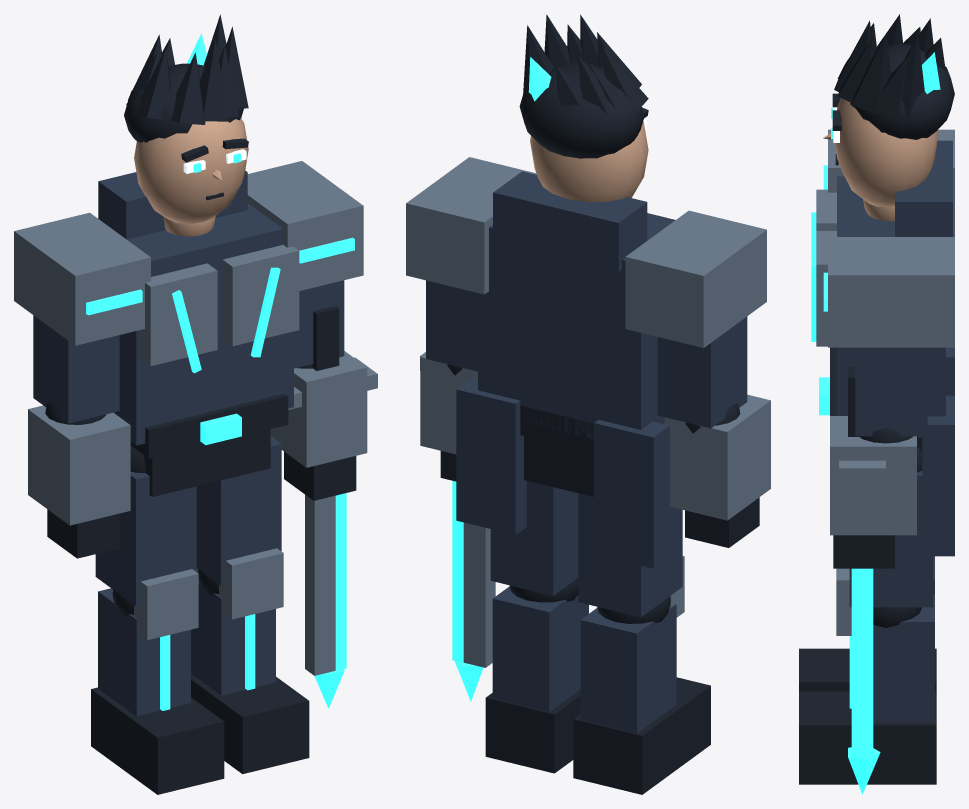
The model's file is kai-prototype.glb.
3 renders of one model, left to right at view 1: azimuth 30°, elevation 25°; view 2: azimuth 150°, elevation 25°; view 3: azimuth 270°, elevation 25°, orthographic. The views are drawn at different scales.
Parts seen in each view (by area): view 1: Armored jacket, Shoulder, Forearm gauntlet, Boot, Shoulder.001, Thigh, Head, Thigh.001, Forearm gauntlet.001, Boot.001, Shin, Upper arm (+28 smaller); view 2: Armored jacket, Shoulder, Coat tail, Shin, Shoulder.001, High collar, Shin.001, Forearm gauntlet, Coat tail.001, Boot, Thigh.001, Upper arm (+19 smaller); view 3: Shoulder.001, Boot.001, Forearm gauntlet.001, Shin.001, Upper arm.001, Head, Coat tail.001, Energy edge, Armored jacket, Thigh.001, High collar, Hair cap (+25 smaller).
Part boxes in pixels (box(x1,y1,x2,y2)): Armored jacket: box(114, 203, 293, 445); Shoulder: box(14, 212, 150, 345); Forearm gauntlet: box(28, 405, 130, 525); Boot: box(91, 687, 224, 794); Shoulder.001: box(247, 161, 363, 290); Thigh: box(95, 471, 196, 606); Head: box(134, 118, 248, 223); Thigh.001: box(196, 436, 281, 585); Forearm gauntlet.001: box(270, 351, 367, 467); Boot.001: box(191, 674, 309, 774); Shin: box(98, 588, 190, 716); Upper arm: box(33, 315, 119, 423); Armored jacket: box(478, 213, 675, 439); Shoulder: box(625, 210, 766, 347); Coat tail: box(594, 420, 669, 568); Shin: box(580, 604, 676, 733); Shoulder.001: box(406, 157, 536, 294); High collar: box(493, 171, 647, 272); Shin.001: box(492, 586, 588, 712); Forearm gauntlet: box(664, 394, 770, 520); Coat tail.001: box(456, 377, 526, 534); Boot: box(573, 677, 710, 794); Thigh.001: box(490, 481, 578, 595); Upper arm: box(657, 316, 747, 428); Shoulder.001: box(828, 237, 954, 347); Boot.001: box(799, 691, 936, 784); Forearm gauntlet.001: box(830, 416, 916, 535); Shin.001: box(873, 594, 934, 722); Upper arm.001: box(855, 347, 927, 436); Head: box(835, 98, 938, 207); Coat tail.001: box(922, 395, 954, 556); Energy edge: box(851, 568, 873, 758); Armored jacket: box(837, 176, 945, 437); Thigh.001: box(849, 470, 933, 607); High collar: box(895, 140, 952, 236); Hair cap: box(850, 44, 954, 139).
Size of the model in its own units: 1.03 by 2.24 by 0.43.
